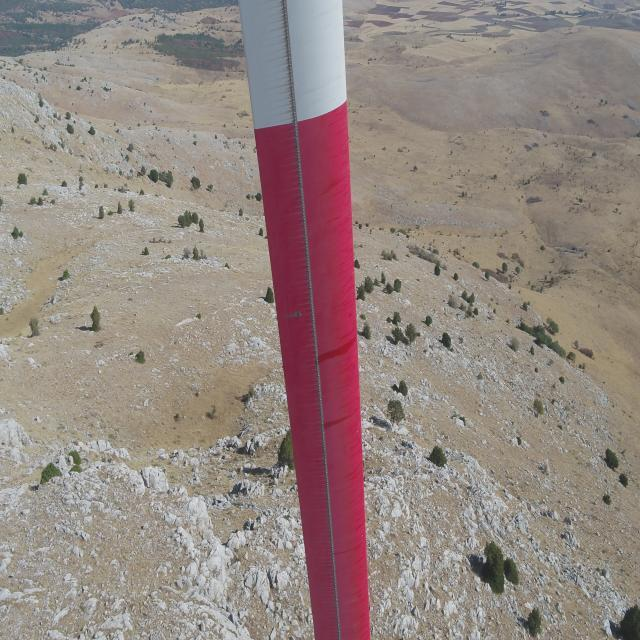Coating_defects: (285, 307, 310, 322)
